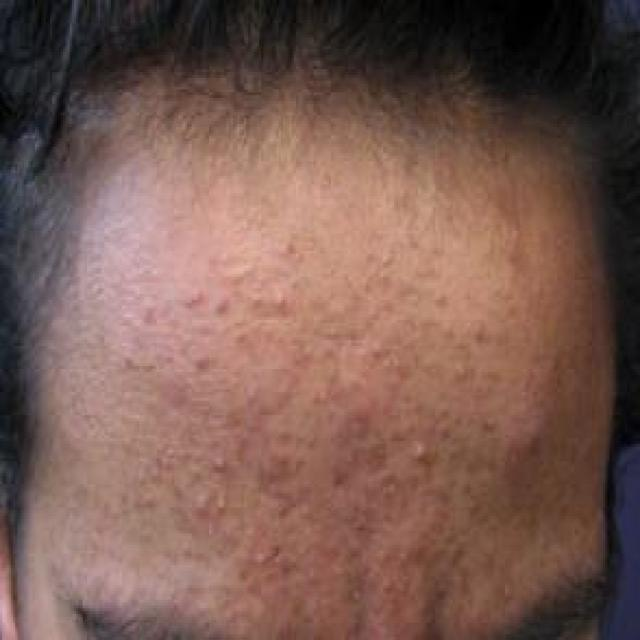Acne: (254, 443, 312, 520), (502, 416, 556, 491), (362, 473, 413, 532), (372, 540, 419, 604), (366, 336, 414, 382), (252, 538, 296, 581), (156, 373, 190, 416), (346, 396, 380, 436), (189, 489, 232, 518), (327, 458, 351, 497), (408, 435, 436, 467), (181, 285, 208, 312), (270, 286, 292, 318), (449, 359, 473, 386), (190, 349, 213, 377), (208, 453, 231, 478), (214, 292, 234, 320)
